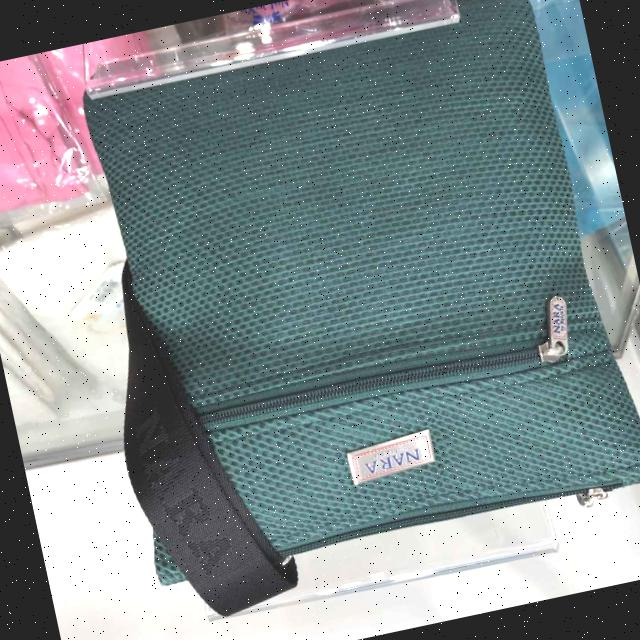handbag: (47, 0, 640, 637)
